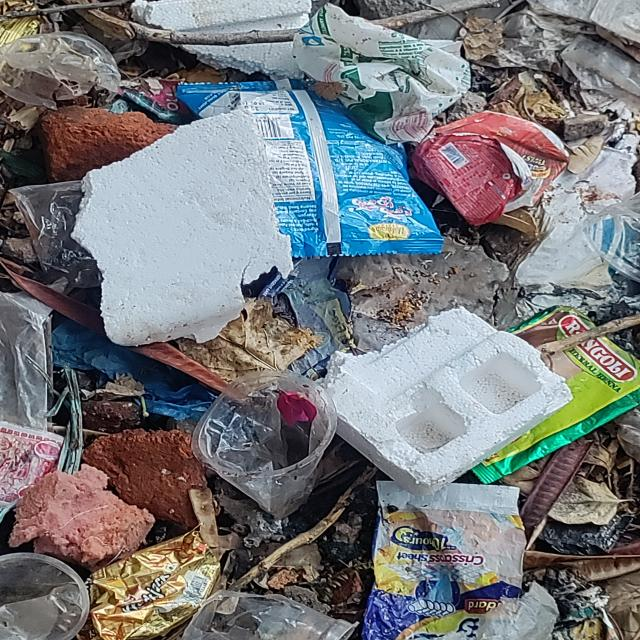dry: (290, 0, 493, 133), (380, 494, 528, 634), (188, 386, 356, 502), (73, 534, 235, 640), (10, 27, 127, 116), (12, 420, 75, 506)
